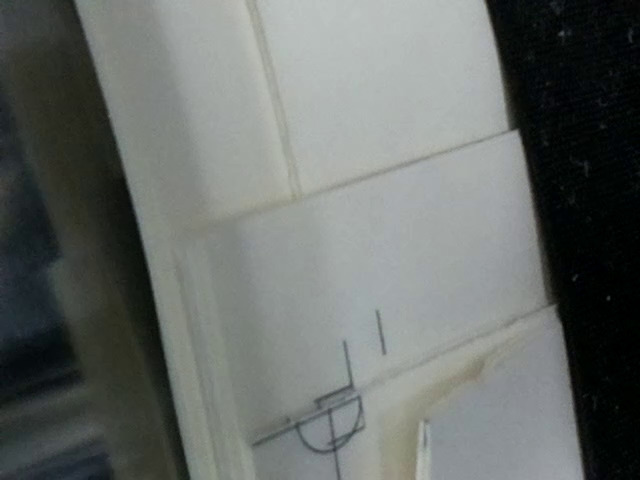misaligned: (248, 340, 368, 459)
